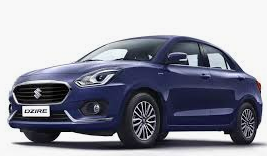car: (6, 33, 263, 150)
